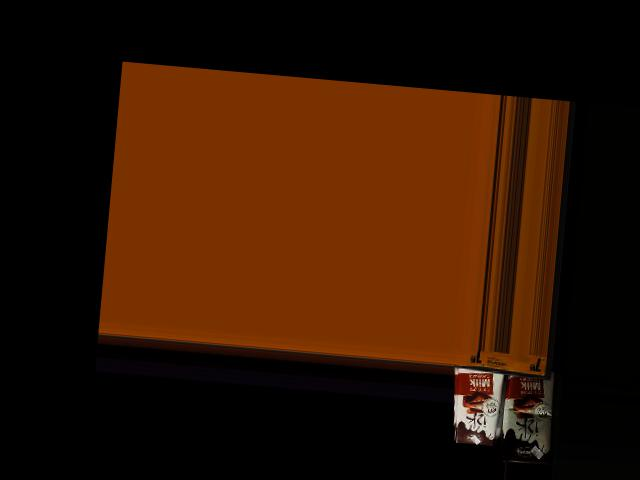chocolate: (443, 357, 504, 448)
